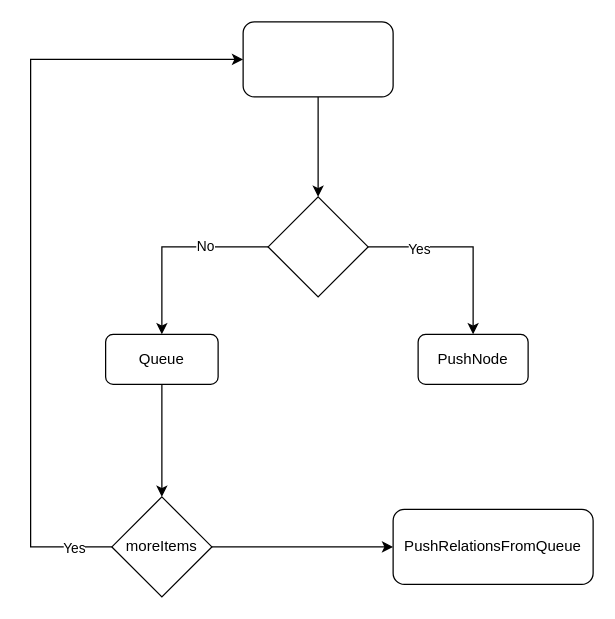
Some shapes in this 615 by 619 pixel diagram are drawn without their labels. The shapes that lost their labels are listed below. From the top down, each one's centre as x and y in pixels, then its label:
At [317,59]: "chan tems".
At [317,246]: "isNode".
